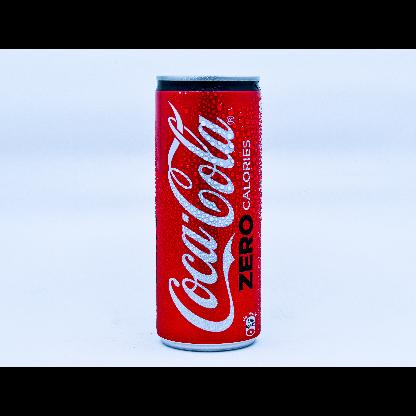Tin_Can: (150, 70, 264, 354)
